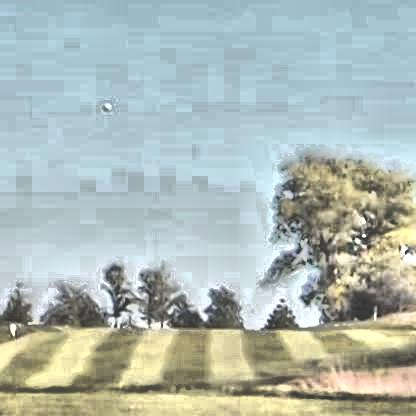golfball: (99, 99, 109, 109)
